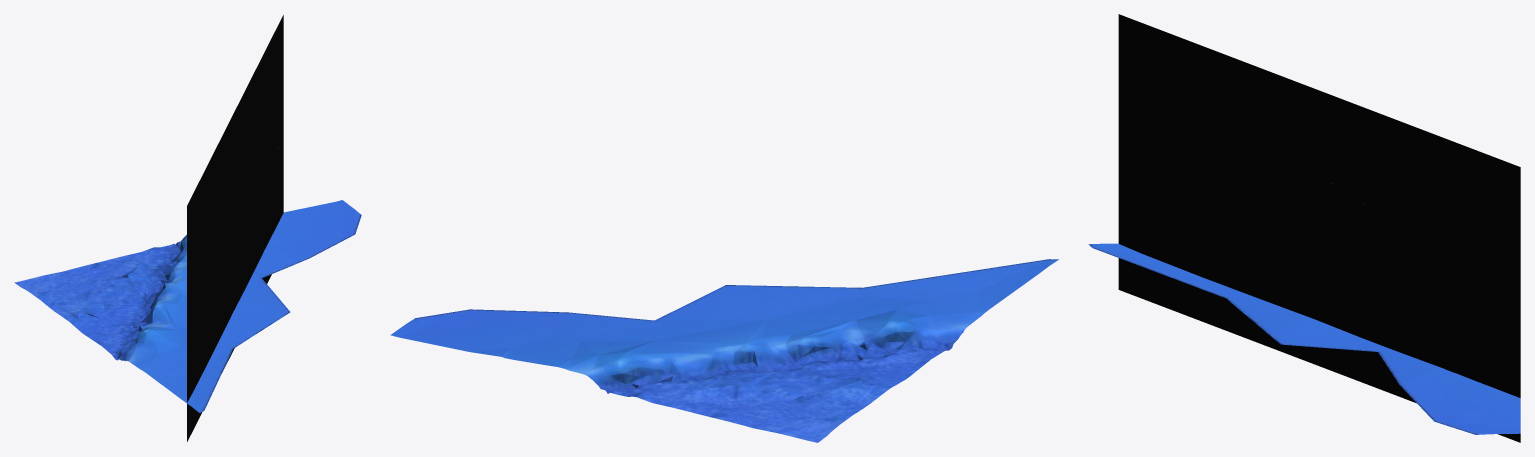
The picture shows the model from 3 angles, left to right: view 1: azimuth 30°, elevation 25°; view 2: azimuth 150°, elevation 25°; view 3: azimuth 270°, elevation 25°; orthographic projection. The views are drawn at different scales.
Size of the model in its own units: 13.06 by 9 by 12.79.
3 materials, 3 textured.
